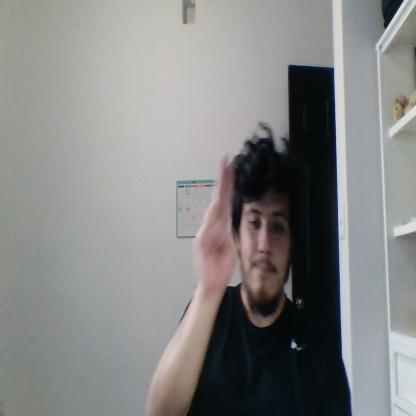U: (193, 156, 237, 292)
